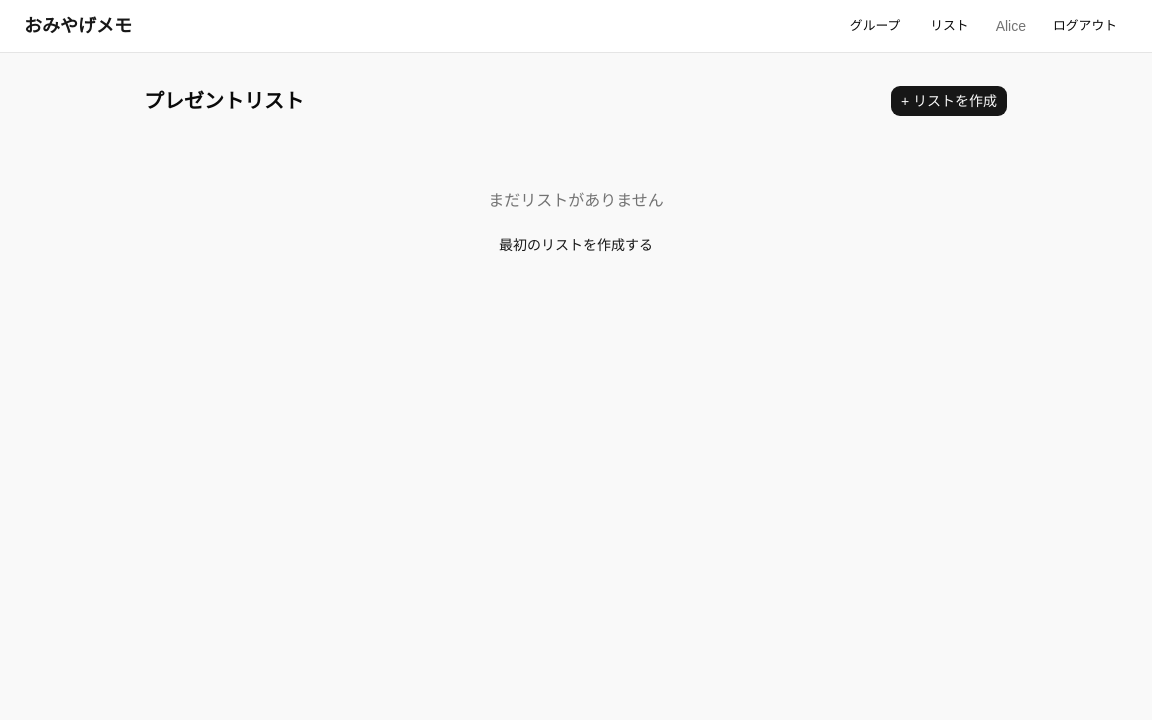
Test: GiftListPage › リストを作成するとリストに追加される
The width and height of the screenshot is (1152, 720).
Check: the text "まだリストがありません" is shown, box [488,192,664,209]
Click the button "+ リストを作成".
click(949, 101)  # box [890,85,1008,117]
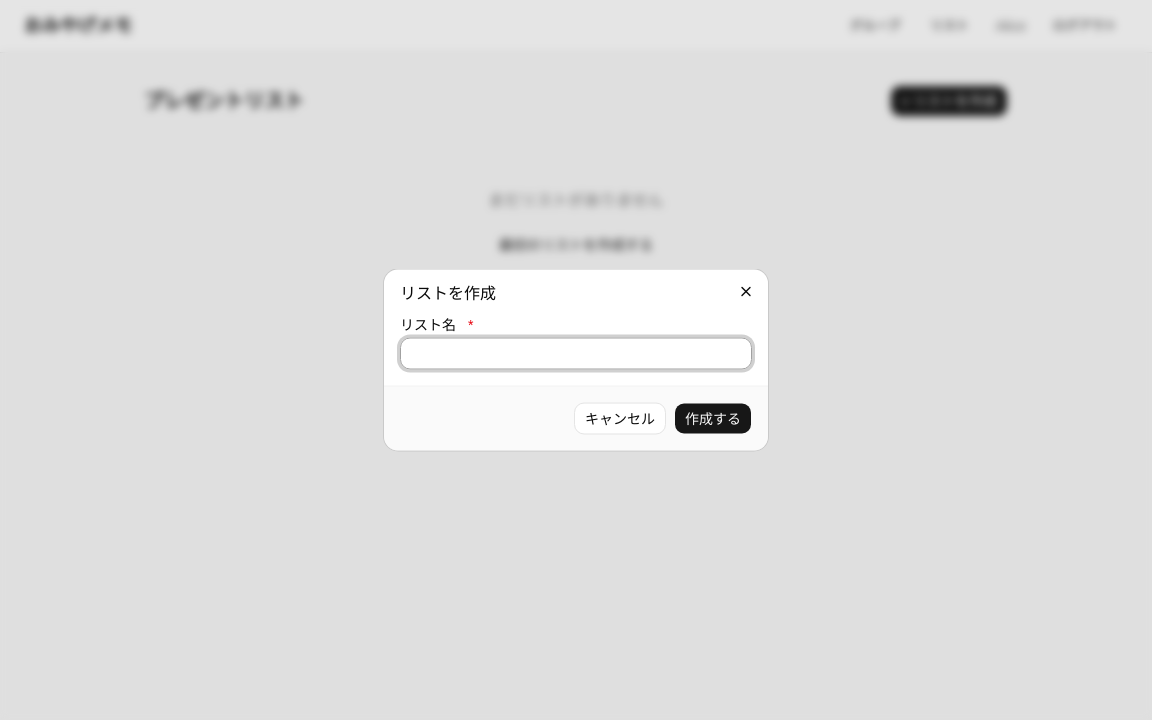
Type "誕生日リスト" into the field labelled "リスト名 *".
click(576, 354); type("誕生日リスト")  # box [400,338,752,370]
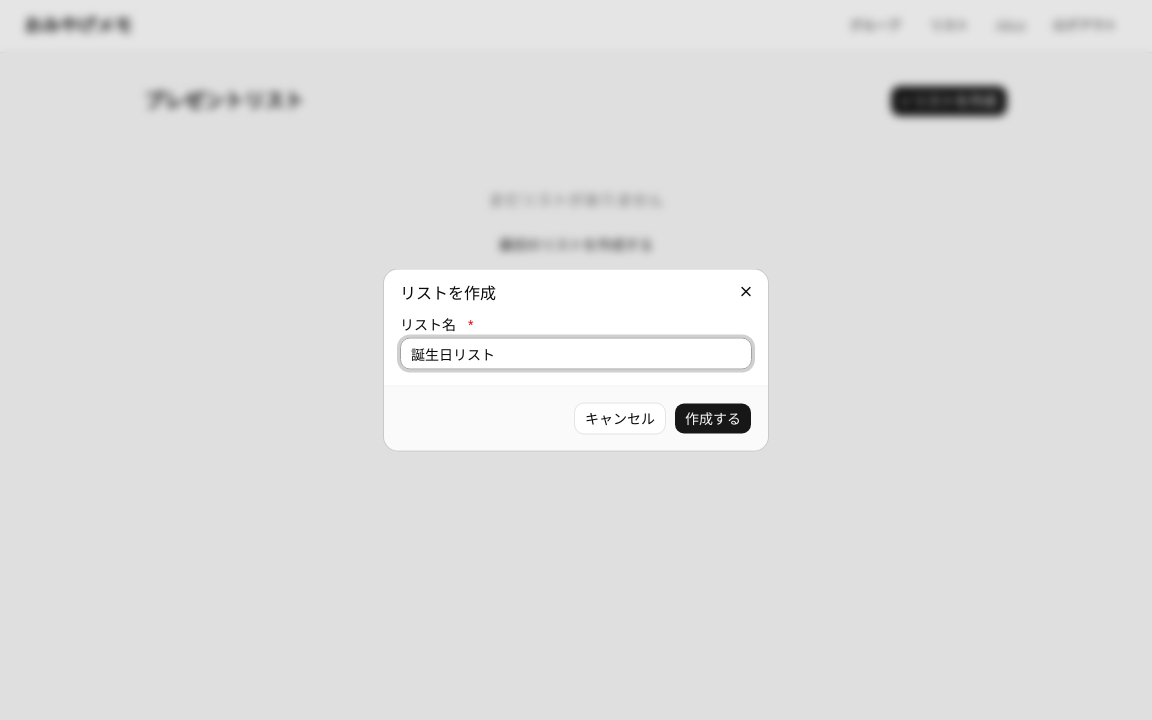
Click the button "作成する".
click(713, 418)  # box [674,402,752,434]
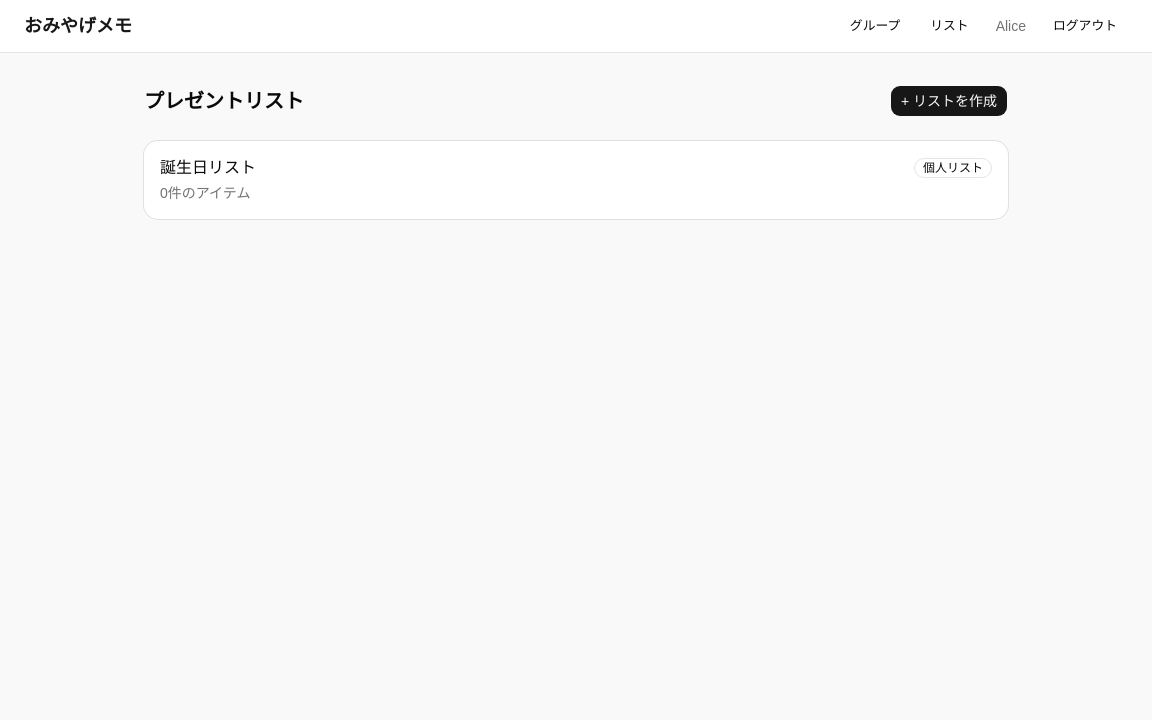
Check: the text "誕生日リスト" is shown, box [160,159,256,176]
